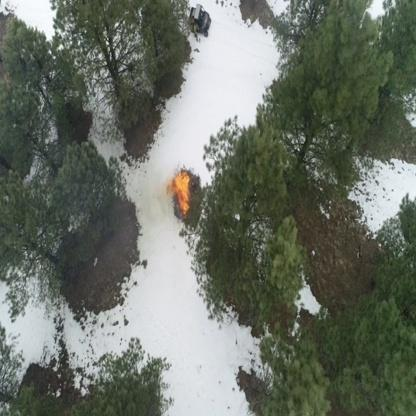Fire: (167, 169, 191, 217)
